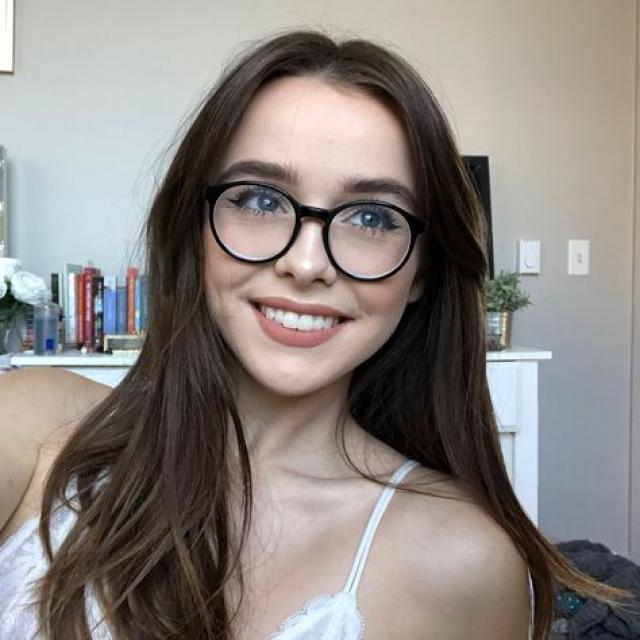Glasses: (202, 180, 429, 285)
